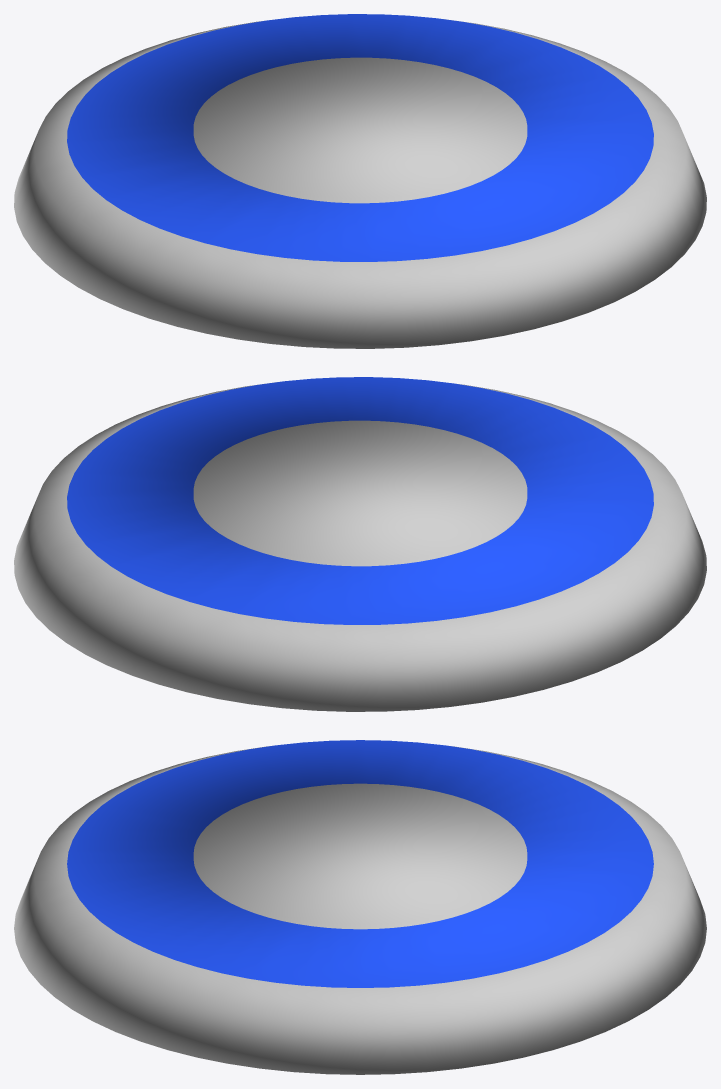
Rendered from GBZH35_Helipad_Light_Blue.gltf.
3 renders of one model, top to bottom at view 1: azimuth 30°, elevation 25°; view 2: azimuth 150°, elevation 25°; view 3: azimuth 270°, elevation 25°, orthographic.
Visible parts, largest first — view 1: Light_Blue; view 2: Light_Blue; view 3: Light_Blue.
Boxes of the visible parts, <box> form: Light_Blue: <box>14,14,706,348</box>; Light_Blue: <box>14,377,706,711</box>; Light_Blue: <box>14,740,706,1074</box>.
Bounding box in the file's own units: 0.4 × 0.0473 × 0.4.
